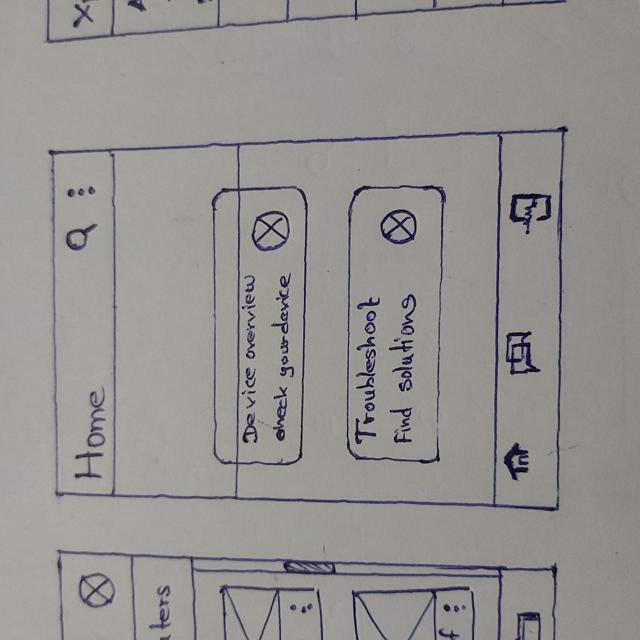ActionButton: (50, 176, 117, 211), (53, 218, 115, 252)
AppBar: (49, 147, 119, 499)
BottomNavBar: (493, 130, 566, 513)
BottomNavItems: (495, 189, 566, 242), (497, 328, 560, 383), (493, 437, 559, 484)
CardView: (347, 185, 445, 465), (212, 185, 309, 466)
Icon: (503, 334, 544, 376), (507, 192, 551, 230), (62, 221, 103, 249), (502, 442, 532, 479), (66, 184, 98, 199)
MainLayout: (42, 126, 578, 522)
RoundedImage: (251, 212, 292, 252), (374, 210, 417, 244)
TextView: (354, 294, 425, 444), (238, 272, 297, 447), (72, 386, 111, 483)
